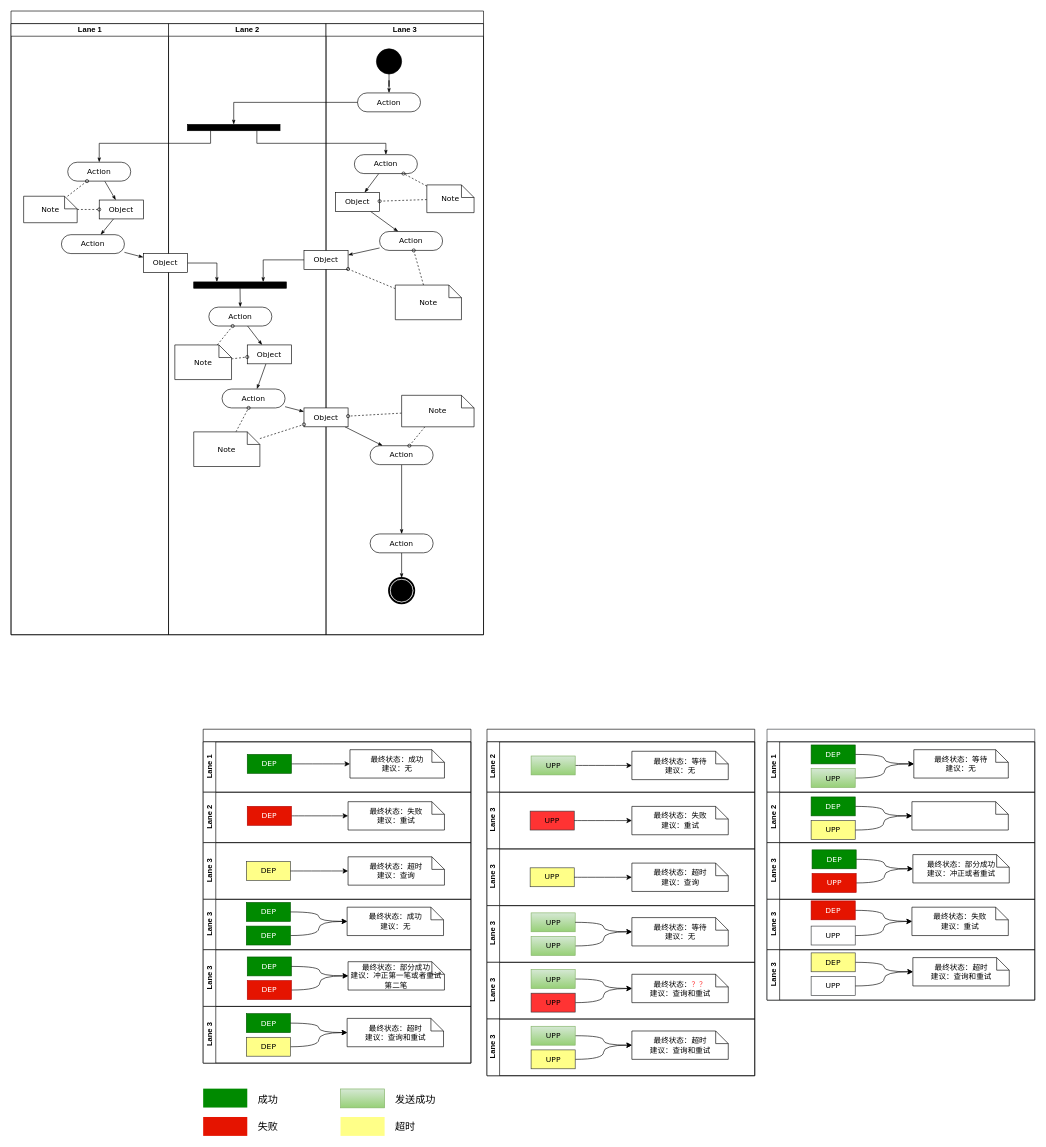
The diagram is 1046 pixels wide and 1147 high, and some of its shapes have lost their labels. The box of each missing label's shape, as (x1, y1, x2, y2) in pixels:
Pool: (10, 10, 484, 635)
仅有DEP: (203, 729, 471, 1063)
仅有UPP: (486, 729, 755, 1076)
最终状态：超时 建议：查询upp: (911, 801, 1008, 830)
有DEP又有UPP: (766, 729, 1035, 1000)
